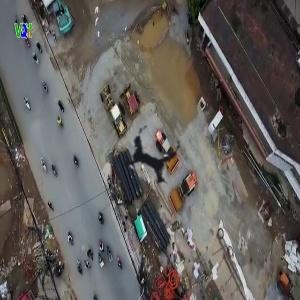drone: (91, 101, 206, 216)
